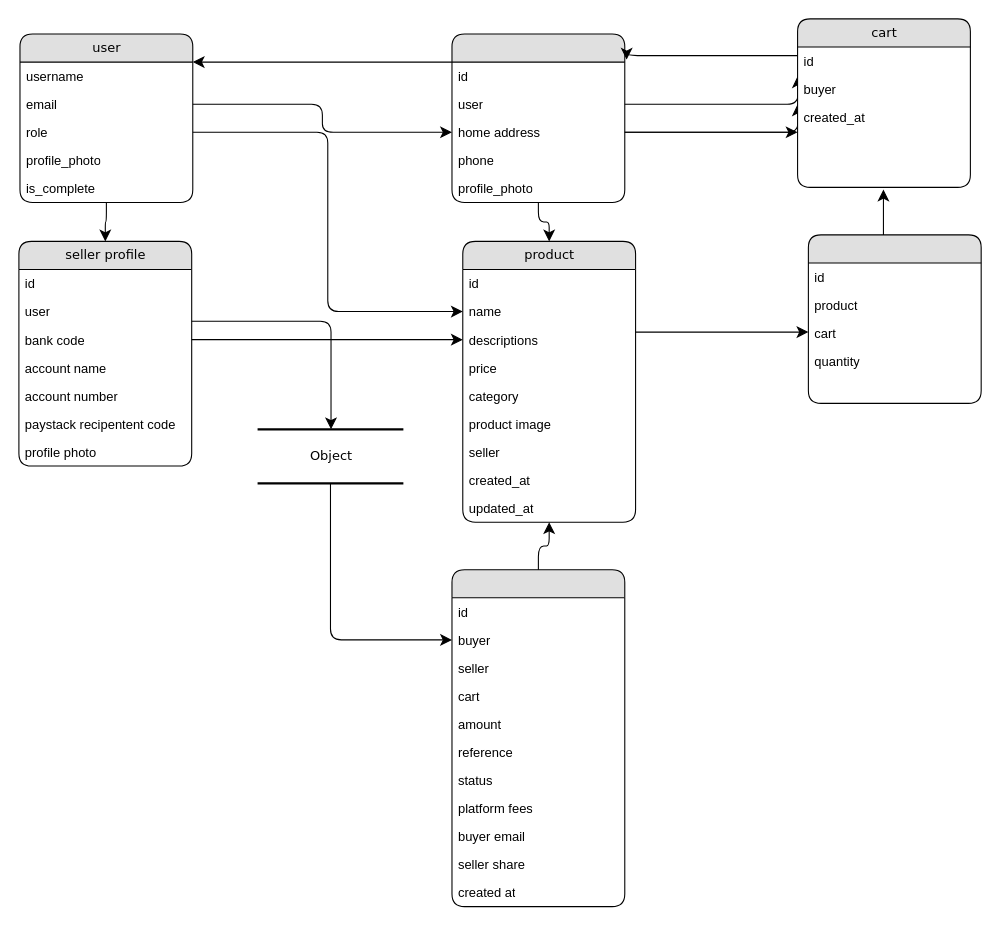
Some shapes in this 1000 by 929 pixel diagram are drawn without their labels. The shapes that lost their labels are listed below. From the top down, each one's box as (x1, y1, x2, y2) in pixels, then its label:
(451, 33, 625, 202): buyer profile
(807, 234, 981, 403): cart item
(451, 569, 625, 907): transaction
